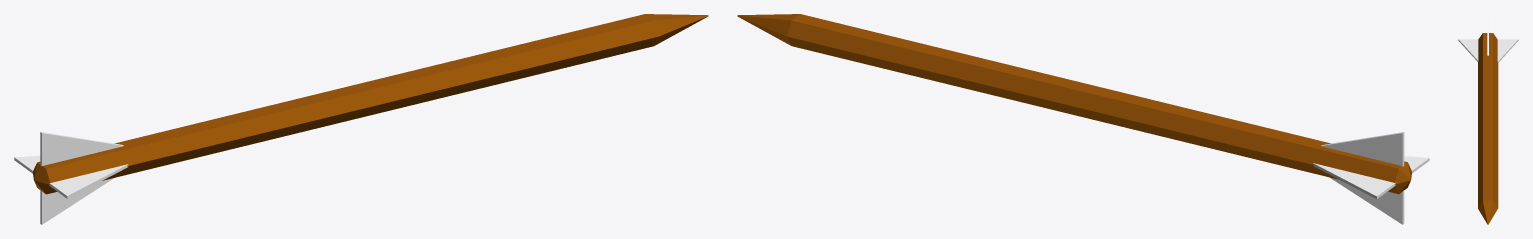
The model's file is Arrow.fbx.
3 renders of one model, left to right at view 1: azimuth 30°, elevation 25°; view 2: azimuth 150°, elevation 25°; view 3: azimuth 270°, elevation 25°, orthographic. The views are drawn at different scales.
Parts seen in each view (by area): view 1: Arrow; view 2: Arrow; view 3: Arrow.
Boxes of the visible parts, bbox=[...] form: Arrow: bbox=[14, 14, 708, 224]; Arrow: bbox=[737, 14, 1429, 224]; Arrow: bbox=[1458, 14, 1518, 224].
Size of the model in its own units: 668 by 87.2 by 90.86.
